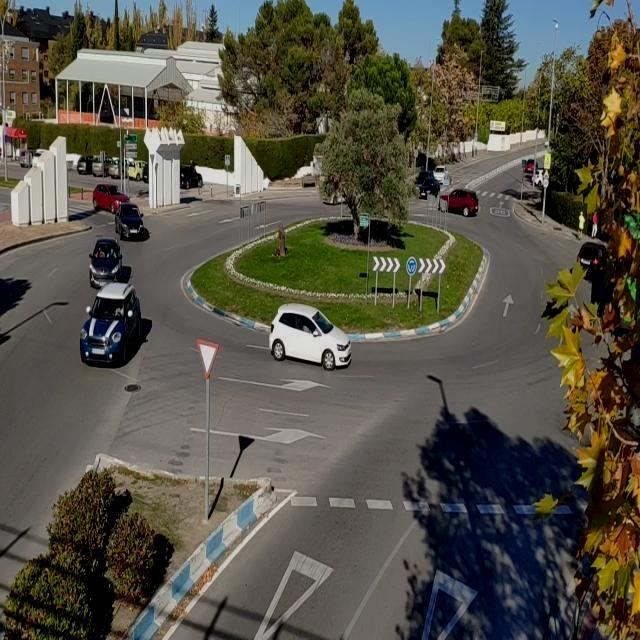Car: (268, 302, 353, 372), (78, 282, 142, 366), (89, 240, 123, 289), (576, 242, 610, 278), (93, 183, 130, 214), (115, 203, 144, 241), (439, 191, 479, 216)
